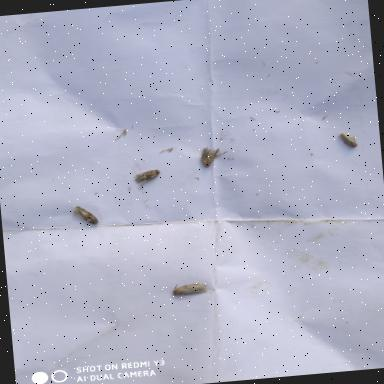pbw: (167, 278, 216, 302), (198, 143, 230, 170), (68, 202, 101, 228), (130, 168, 162, 184), (337, 130, 360, 150)
